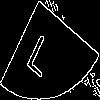L: (25, 25, 61, 79)
